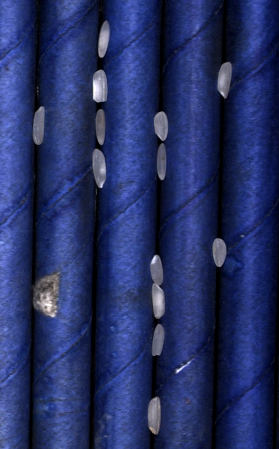complete_grain: (144, 396, 164, 439), (90, 148, 108, 192), (96, 17, 112, 62), (217, 58, 233, 102), (210, 236, 230, 271), (93, 107, 109, 149), (154, 141, 170, 183), (151, 108, 170, 143), (32, 104, 46, 148), (150, 323, 166, 358), (149, 254, 166, 286)
milky_grain: (147, 283, 168, 321), (90, 67, 110, 103)
